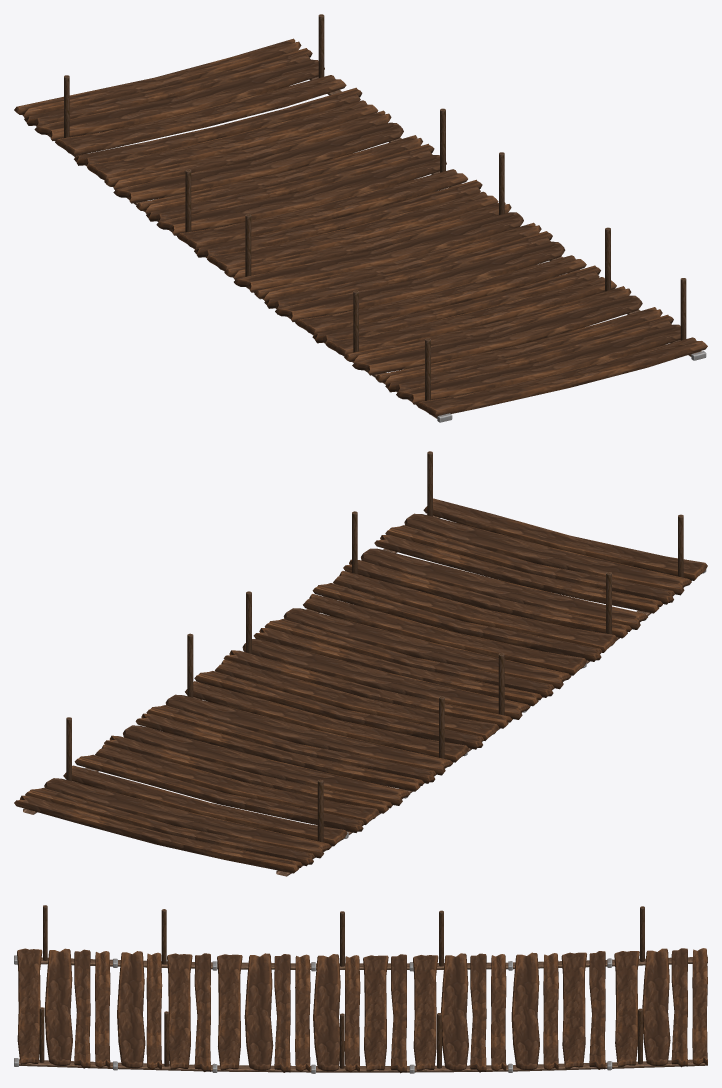
Rendered from Bridge 1.fbx.
3 views of the same model, one above another, from view 1: azimuth 30°, elevation 25°; view 2: azimuth 150°, elevation 25°; view 3: azimuth 270°, elevation 25° (orthographic). The views are drawn at different scales.
Visible parts, largest first — view 1: Plank4_low9; view 2: Plank4_low9; view 3: Plank4_low9.
Part boxes in pixels (bbox=[...]): Plank4_low9: bbox=[14, 14, 707, 422]; Plank4_low9: bbox=[14, 451, 707, 876]; Plank4_low9: bbox=[14, 905, 707, 1073].
Size of the model in its own units: 180 by 46.2 by 458.
